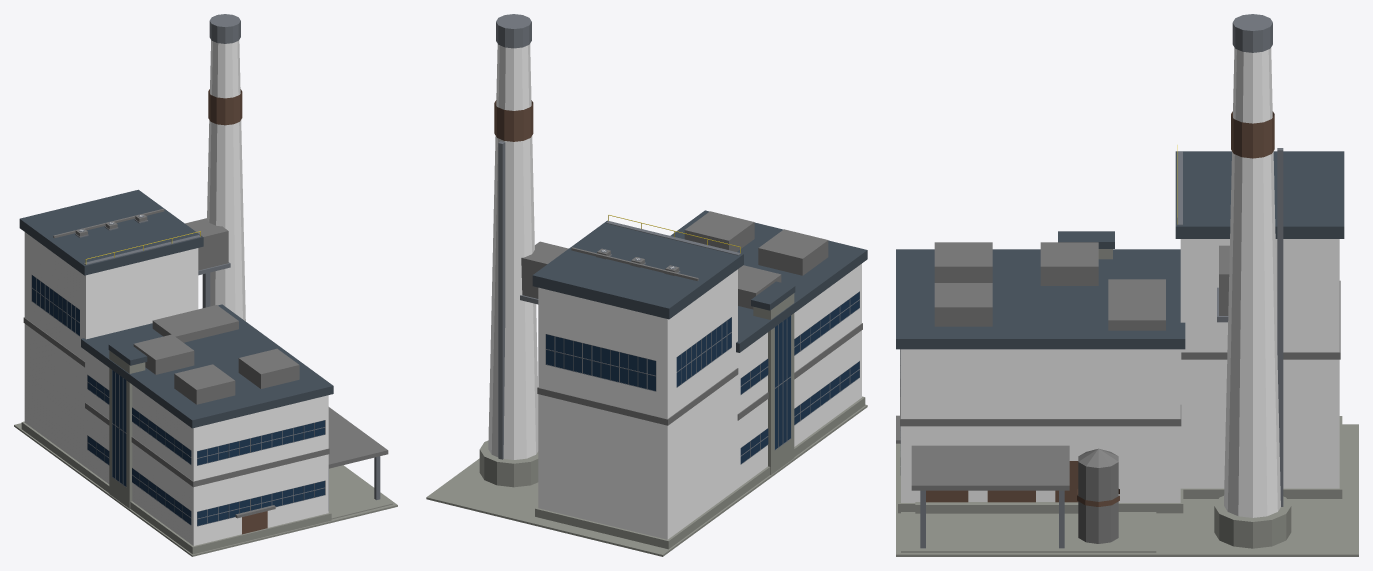
File: mashup-boiler-mid-prebuilt_close.fbx
3 views of the same model, side by side, from view 1: azimuth 30°, elevation 25°; view 2: azimuth 150°, elevation 25°; view 3: azimuth 270°, elevation 25° (orthographic). The views are drawn at different scales.
Visible parts, largest first — view 1: a1056.MainBuilding.001; view 2: a1056.MainBuilding.001; view 3: a1056.MainBuilding.001.
Boxes of the visible parts, x1,y1,x2,y2 form: a1056.MainBuilding.001: [14, 14, 397, 556]; a1056.MainBuilding.001: [426, 14, 867, 556]; a1056.MainBuilding.001: [896, 14, 1358, 556].
Size of the model in its own units: 32 by 58.6 by 48.
